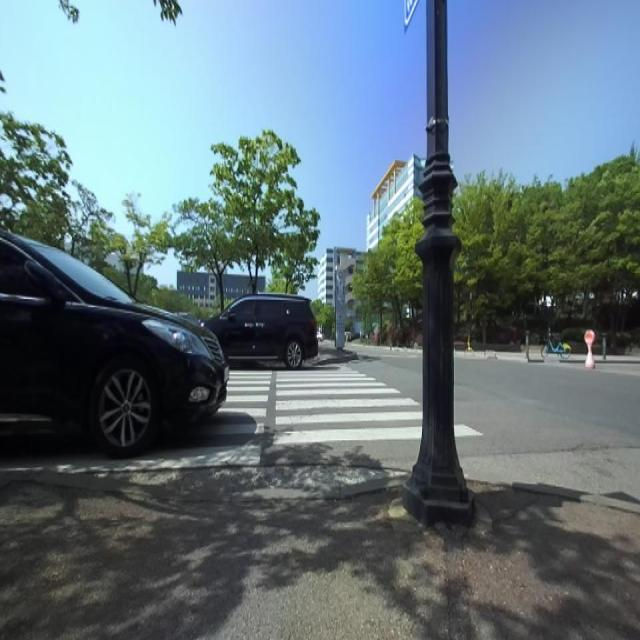sidewalk: (0, 467, 640, 639)
